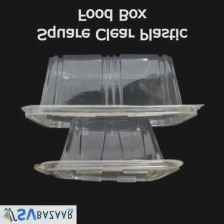plastic_box: (15, 46, 210, 136), (27, 112, 189, 190)
